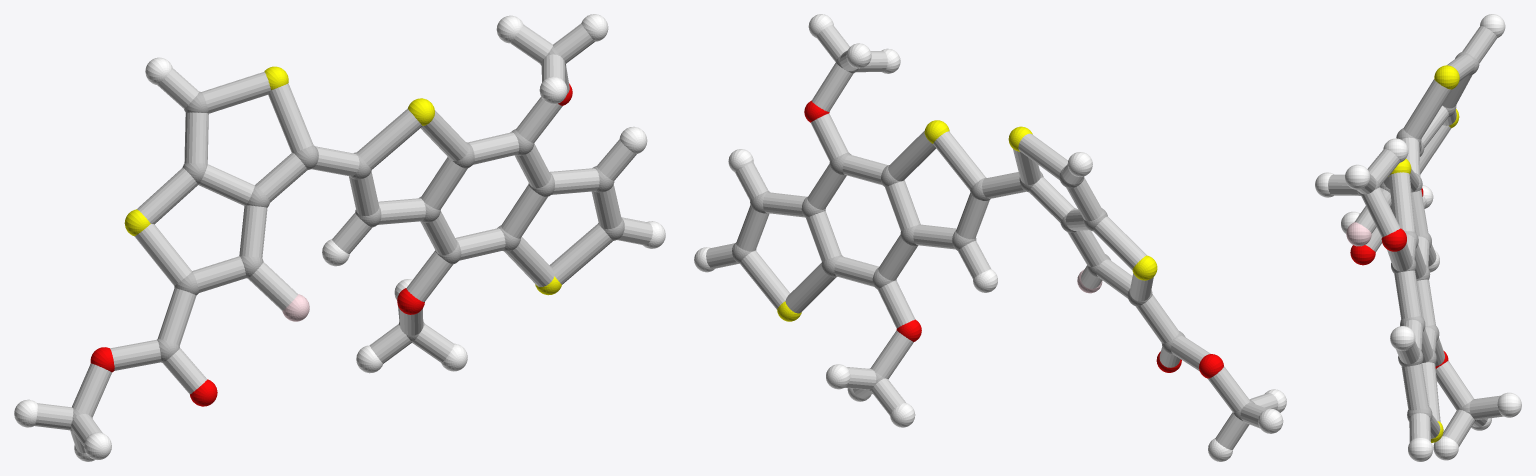
The model's file is color.glb.
3 views of the same model, side by side, from view 1: azimuth 30°, elevation 25°; view 2: azimuth 150°, elevation 25°; view 3: azimuth 270°, elevation 25° (orthographic). The views are drawn at different scales.
Visible parts, largest first — view 1: grp15205, grp8689, grp1, grp7241, grp13395; view 2: grp15205, grp8689, grp1, grp7241, grp13395; view 3: grp15205, grp8689, grp1, grp13395, grp7241, grp14843.
Part boxes in pixels (bbox=[...]): grp15205: bbox=[35, 23, 652, 453]; grp8689: bbox=[14, 14, 665, 461]; grp1: bbox=[70, 46, 624, 432]; grp7241: bbox=[124, 66, 561, 295]; grp13395: bbox=[90, 83, 572, 406]; grp15205: bbox=[706, 25, 1278, 449]; grp8689: bbox=[694, 14, 1286, 461]; grp1: bbox=[732, 56, 1254, 420]; grp7241: bbox=[777, 120, 1157, 321]; grp13395: bbox=[804, 100, 1223, 378]; grp15205: bbox=[1328, 26, 1503, 446]; grp8689: bbox=[1315, 14, 1521, 461]; grp1: bbox=[1357, 51, 1479, 421]; grp13395: bbox=[1350, 188, 1448, 368]; grp7241: bbox=[1388, 65, 1459, 442]; grp14843: bbox=[1346, 222, 1371, 246].
Bounding box in the file's own units: 16.05 × 8.72 × 4.89.
